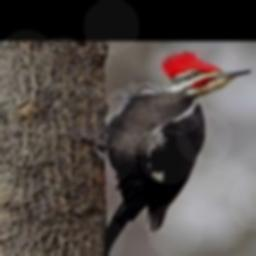Woodpecker: (66, 52, 250, 256)
